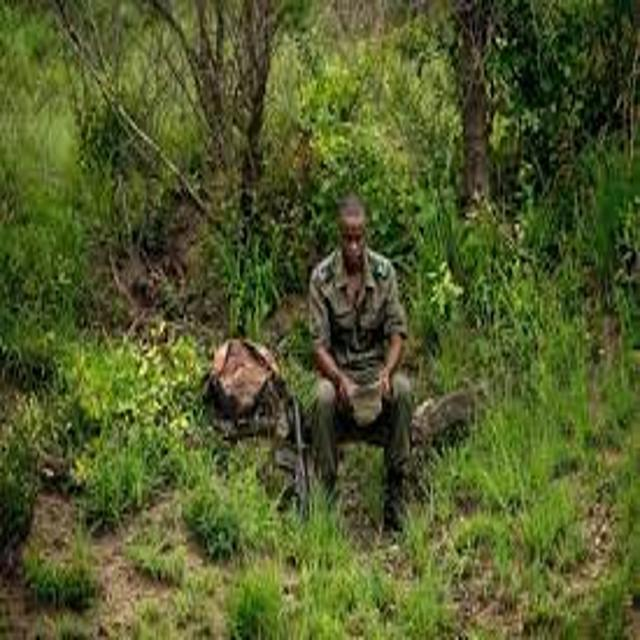backpack: (187, 320, 326, 463)
gun: (248, 376, 346, 563)
poacher: (260, 171, 450, 561)
